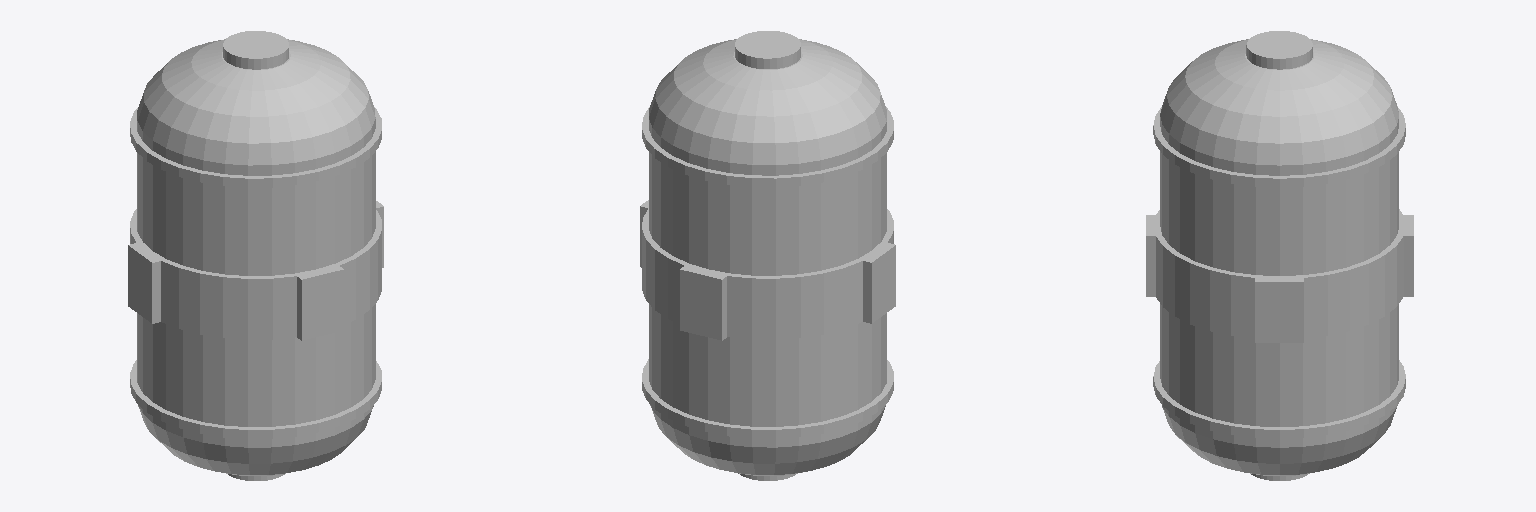
The model's file is tank.obj.
The picture shows the model from 3 angles: view 1: azimuth 30°, elevation 25°; view 2: azimuth 150°, elevation 25°; view 3: azimuth 270°, elevation 25°; orthographic projection.
Parts seen in each view (by area): view 1: tank, structure; view 2: tank, structure; view 3: tank, structure.
Part boxes in pixels (left/top/right/bottom): tank: left=137, top=39, right=375, bottom=475; structure: left=128, top=31, right=383, bottom=480; tank: left=649, top=39, right=886, bottom=475; structure: left=640, top=31, right=895, bottom=480; tank: left=1160, top=39, right=1398, bottom=475; structure: left=1146, top=31, right=1413, bottom=480.
Size of the model in its own units: 4.03 by 7.01 by 4.02.